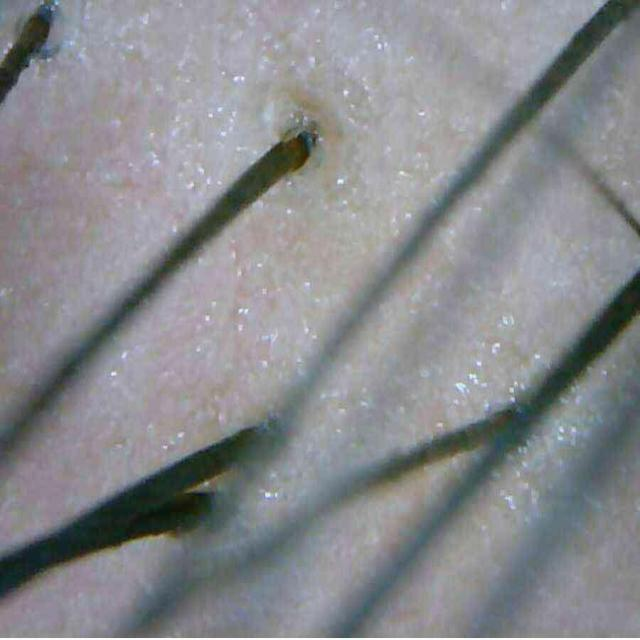o: (136, 59, 252, 212), (181, 267, 308, 395), (487, 419, 591, 527), (446, 308, 544, 418), (339, 13, 398, 133), (246, 445, 316, 517), (551, 376, 592, 419)
